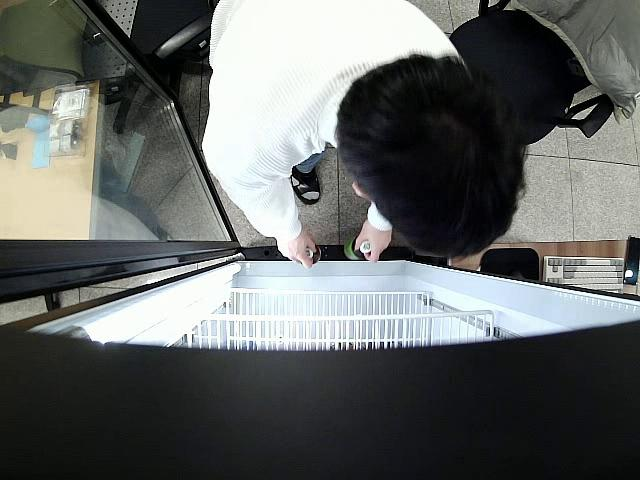00_hand: (353, 222, 392, 262), (277, 230, 317, 268)
19_17cha: (347, 238, 371, 260)
